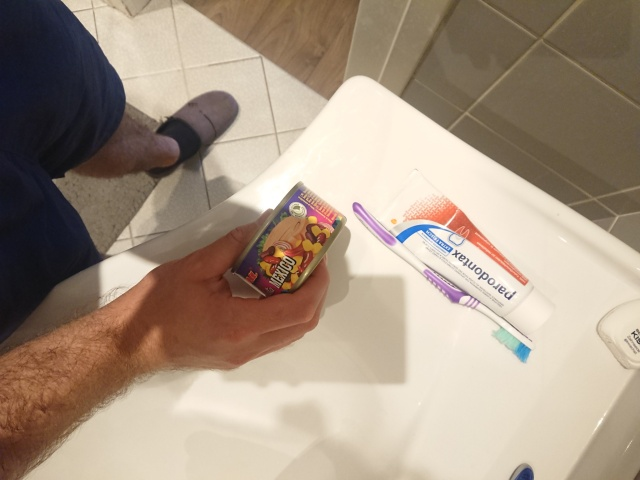Giana Tuna Salad Mexico 185g: (229, 176, 349, 305)
